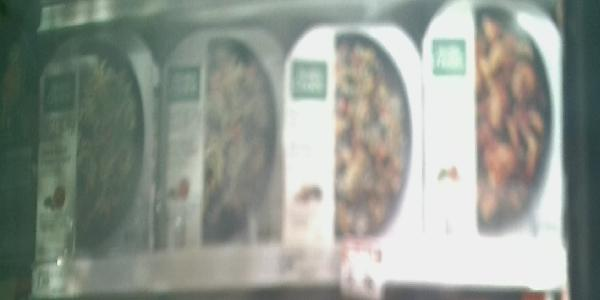pizza1: (424, 1, 562, 242), (284, 17, 423, 244), (159, 24, 283, 245), (31, 40, 156, 251)
